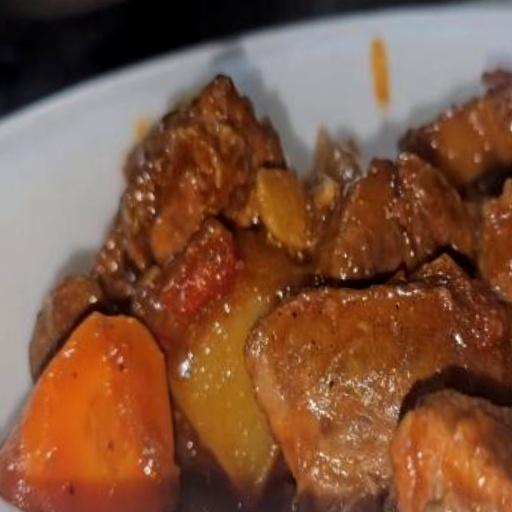pork caldereta: (0, 78, 511, 511)
